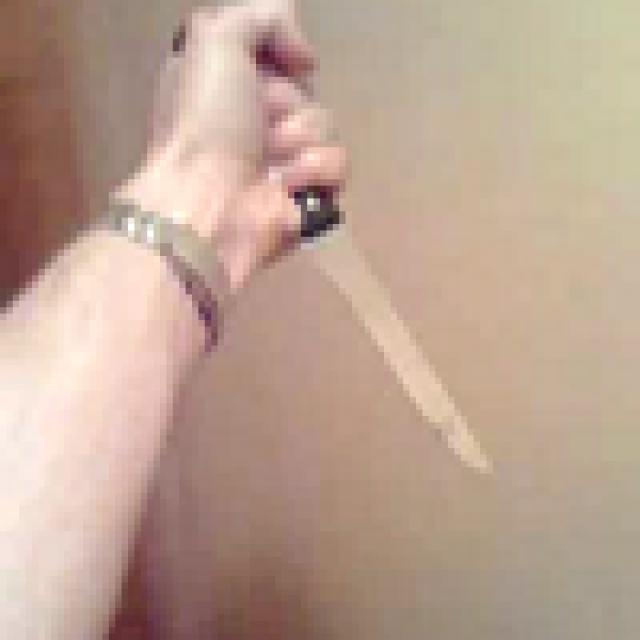Knife: (172, 13, 504, 480)
